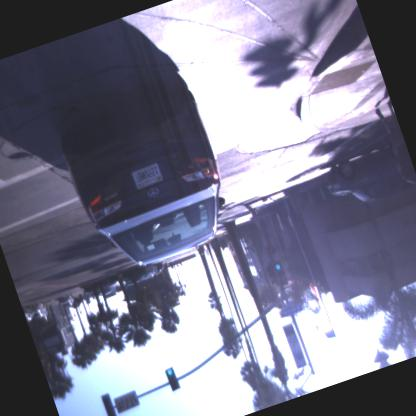trafficlight: (165, 365, 182, 394), (272, 262, 288, 284)
